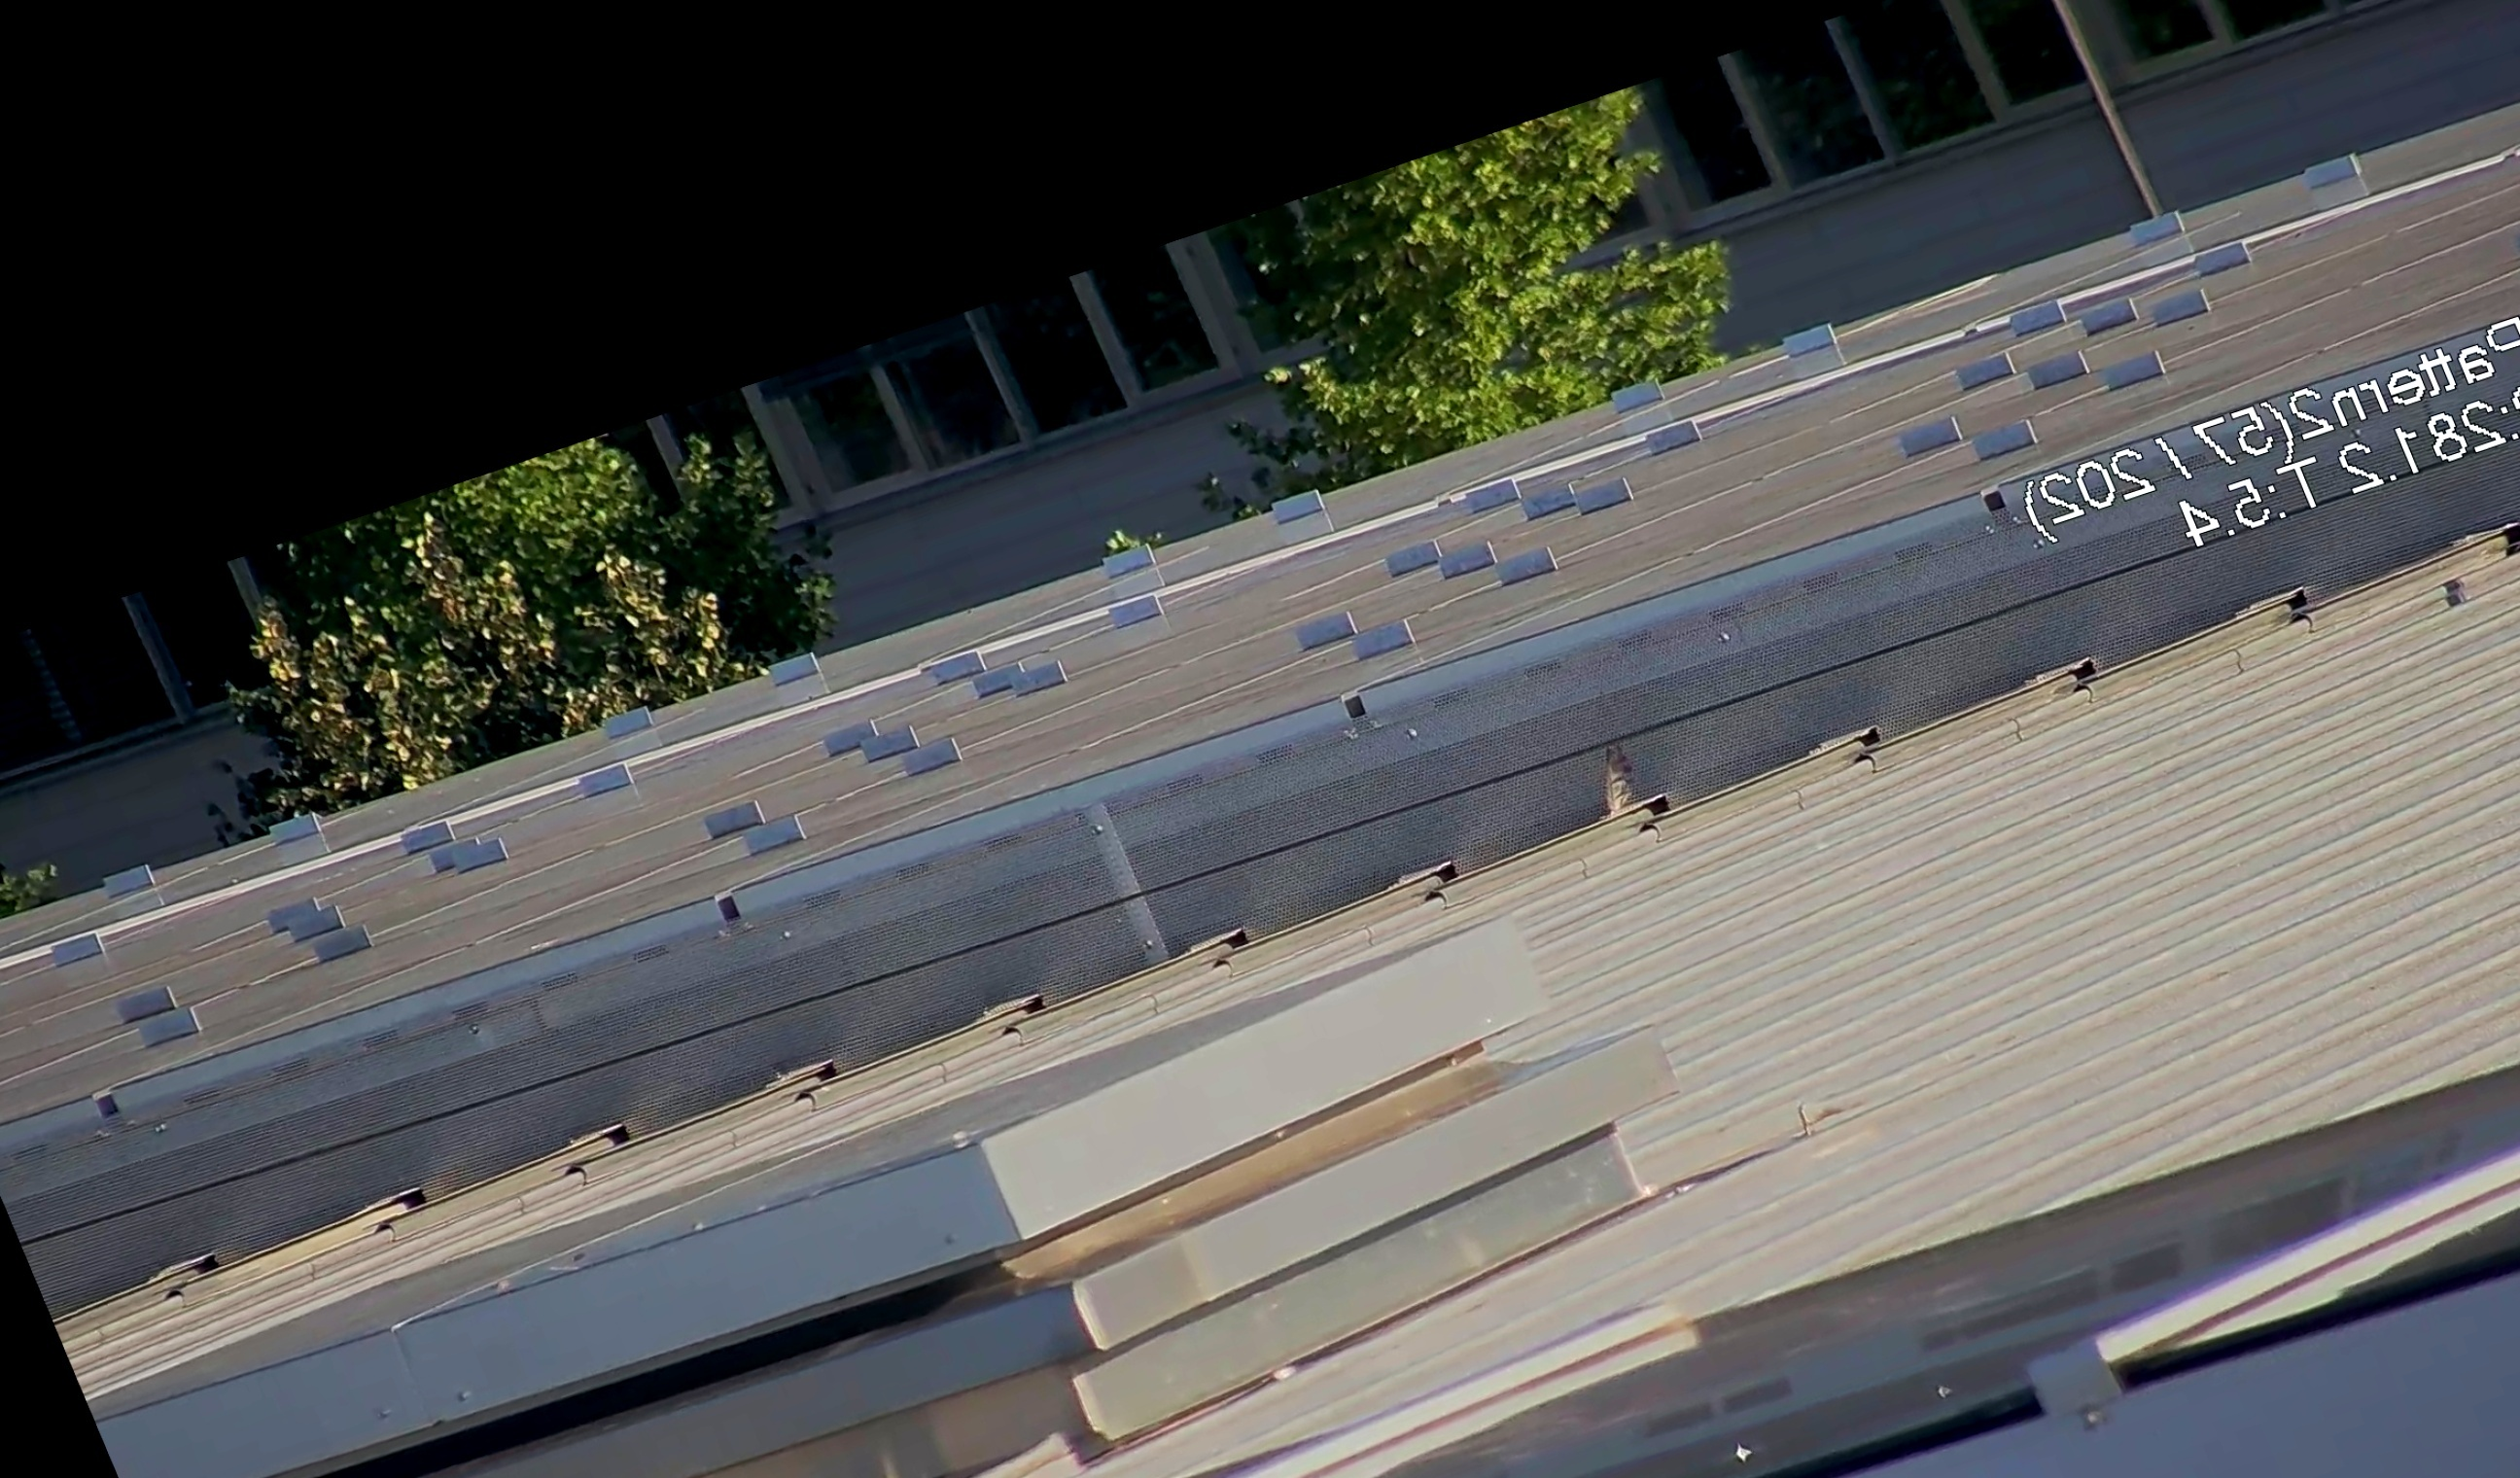Other: (1570, 713, 1692, 853)
